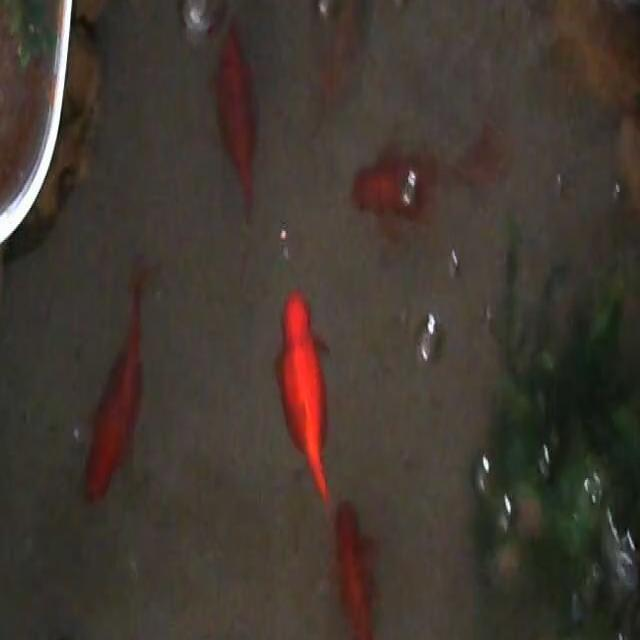fish: (79, 264, 153, 506), (275, 287, 334, 518), (214, 16, 260, 225), (332, 496, 397, 640), (350, 147, 426, 231), (310, 0, 362, 119), (444, 118, 511, 193)
